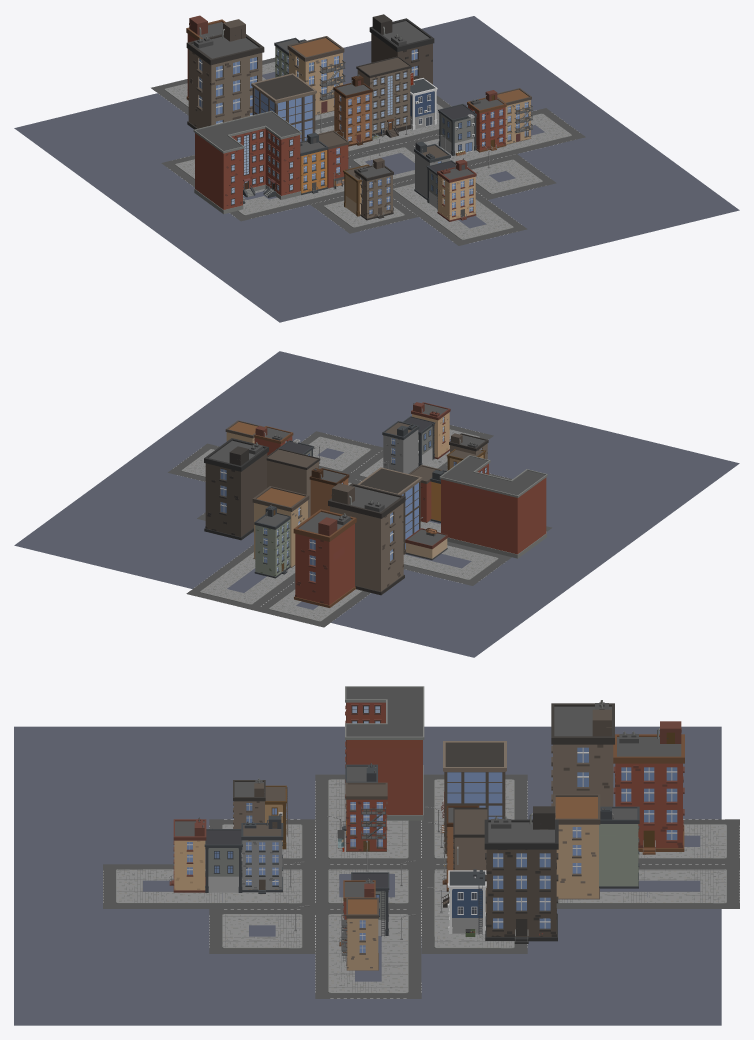
Rendered from game.glb.
The picture shows the model from 3 angles, top to bottom: view 1: azimuth 30°, elevation 25°; view 2: azimuth 150°, elevation 25°; view 3: azimuth 270°, elevation 25°; orthographic projection. The views are drawn at different scales.
Parts seen in each view (by area): view 1: Environment; view 2: Environment; view 3: Environment.
Boxes of the visible parts, <box> form: Environment: <box>14,14,739,322</box>; Environment: <box>14,351,739,657</box>; Environment: <box>14,686,739,1025</box>.
Size of the model in its own units: 400 by 78.47 by 410.
4 materials, 2 textured.
